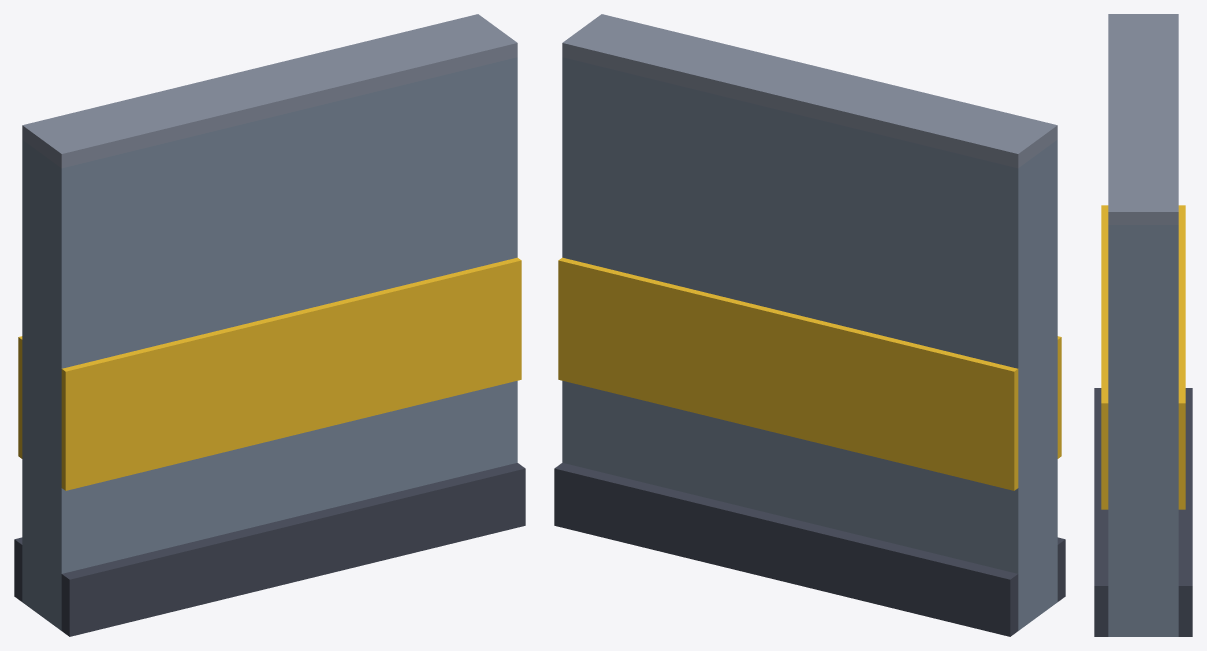
The model's file is partition-full.glb.
The picture shows the model from 3 angles, left to right: view 1: azimuth 30°, elevation 25°; view 2: azimuth 150°, elevation 25°; view 3: azimuth 270°, elevation 25°; orthographic projection. The views are drawn at different scales.
Visible parts, largest first — view 1: partition-full; view 2: partition-full; view 3: partition-full.
Part boxes in pixels (x1=…): partition-full: x1=14, y1=14, x2=525, y2=636; partition-full: x1=554, y1=14, x2=1065, y2=636; partition-full: x1=1094, y1=14, x2=1192, y2=636.
Bounding box in the file's own units: 1 × 1 × 0.21.
Materials: 1 (1 with a texture image).
